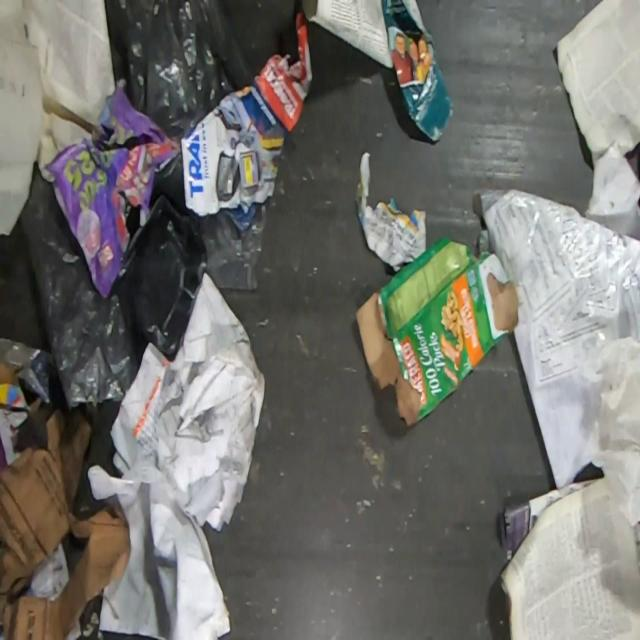cardboard: (353, 237, 522, 432), (0, 406, 130, 640), (0, 336, 67, 451)
rigid_plastic: (112, 195, 208, 363)
soft_plastic: (476, 188, 640, 488), (17, 159, 150, 406), (104, 0, 256, 142), (202, 205, 271, 292)
